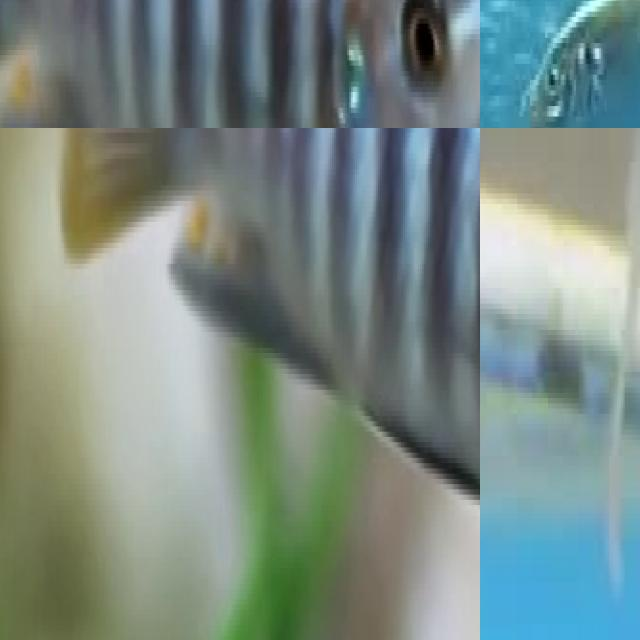fish: (0, 0, 480, 128)
